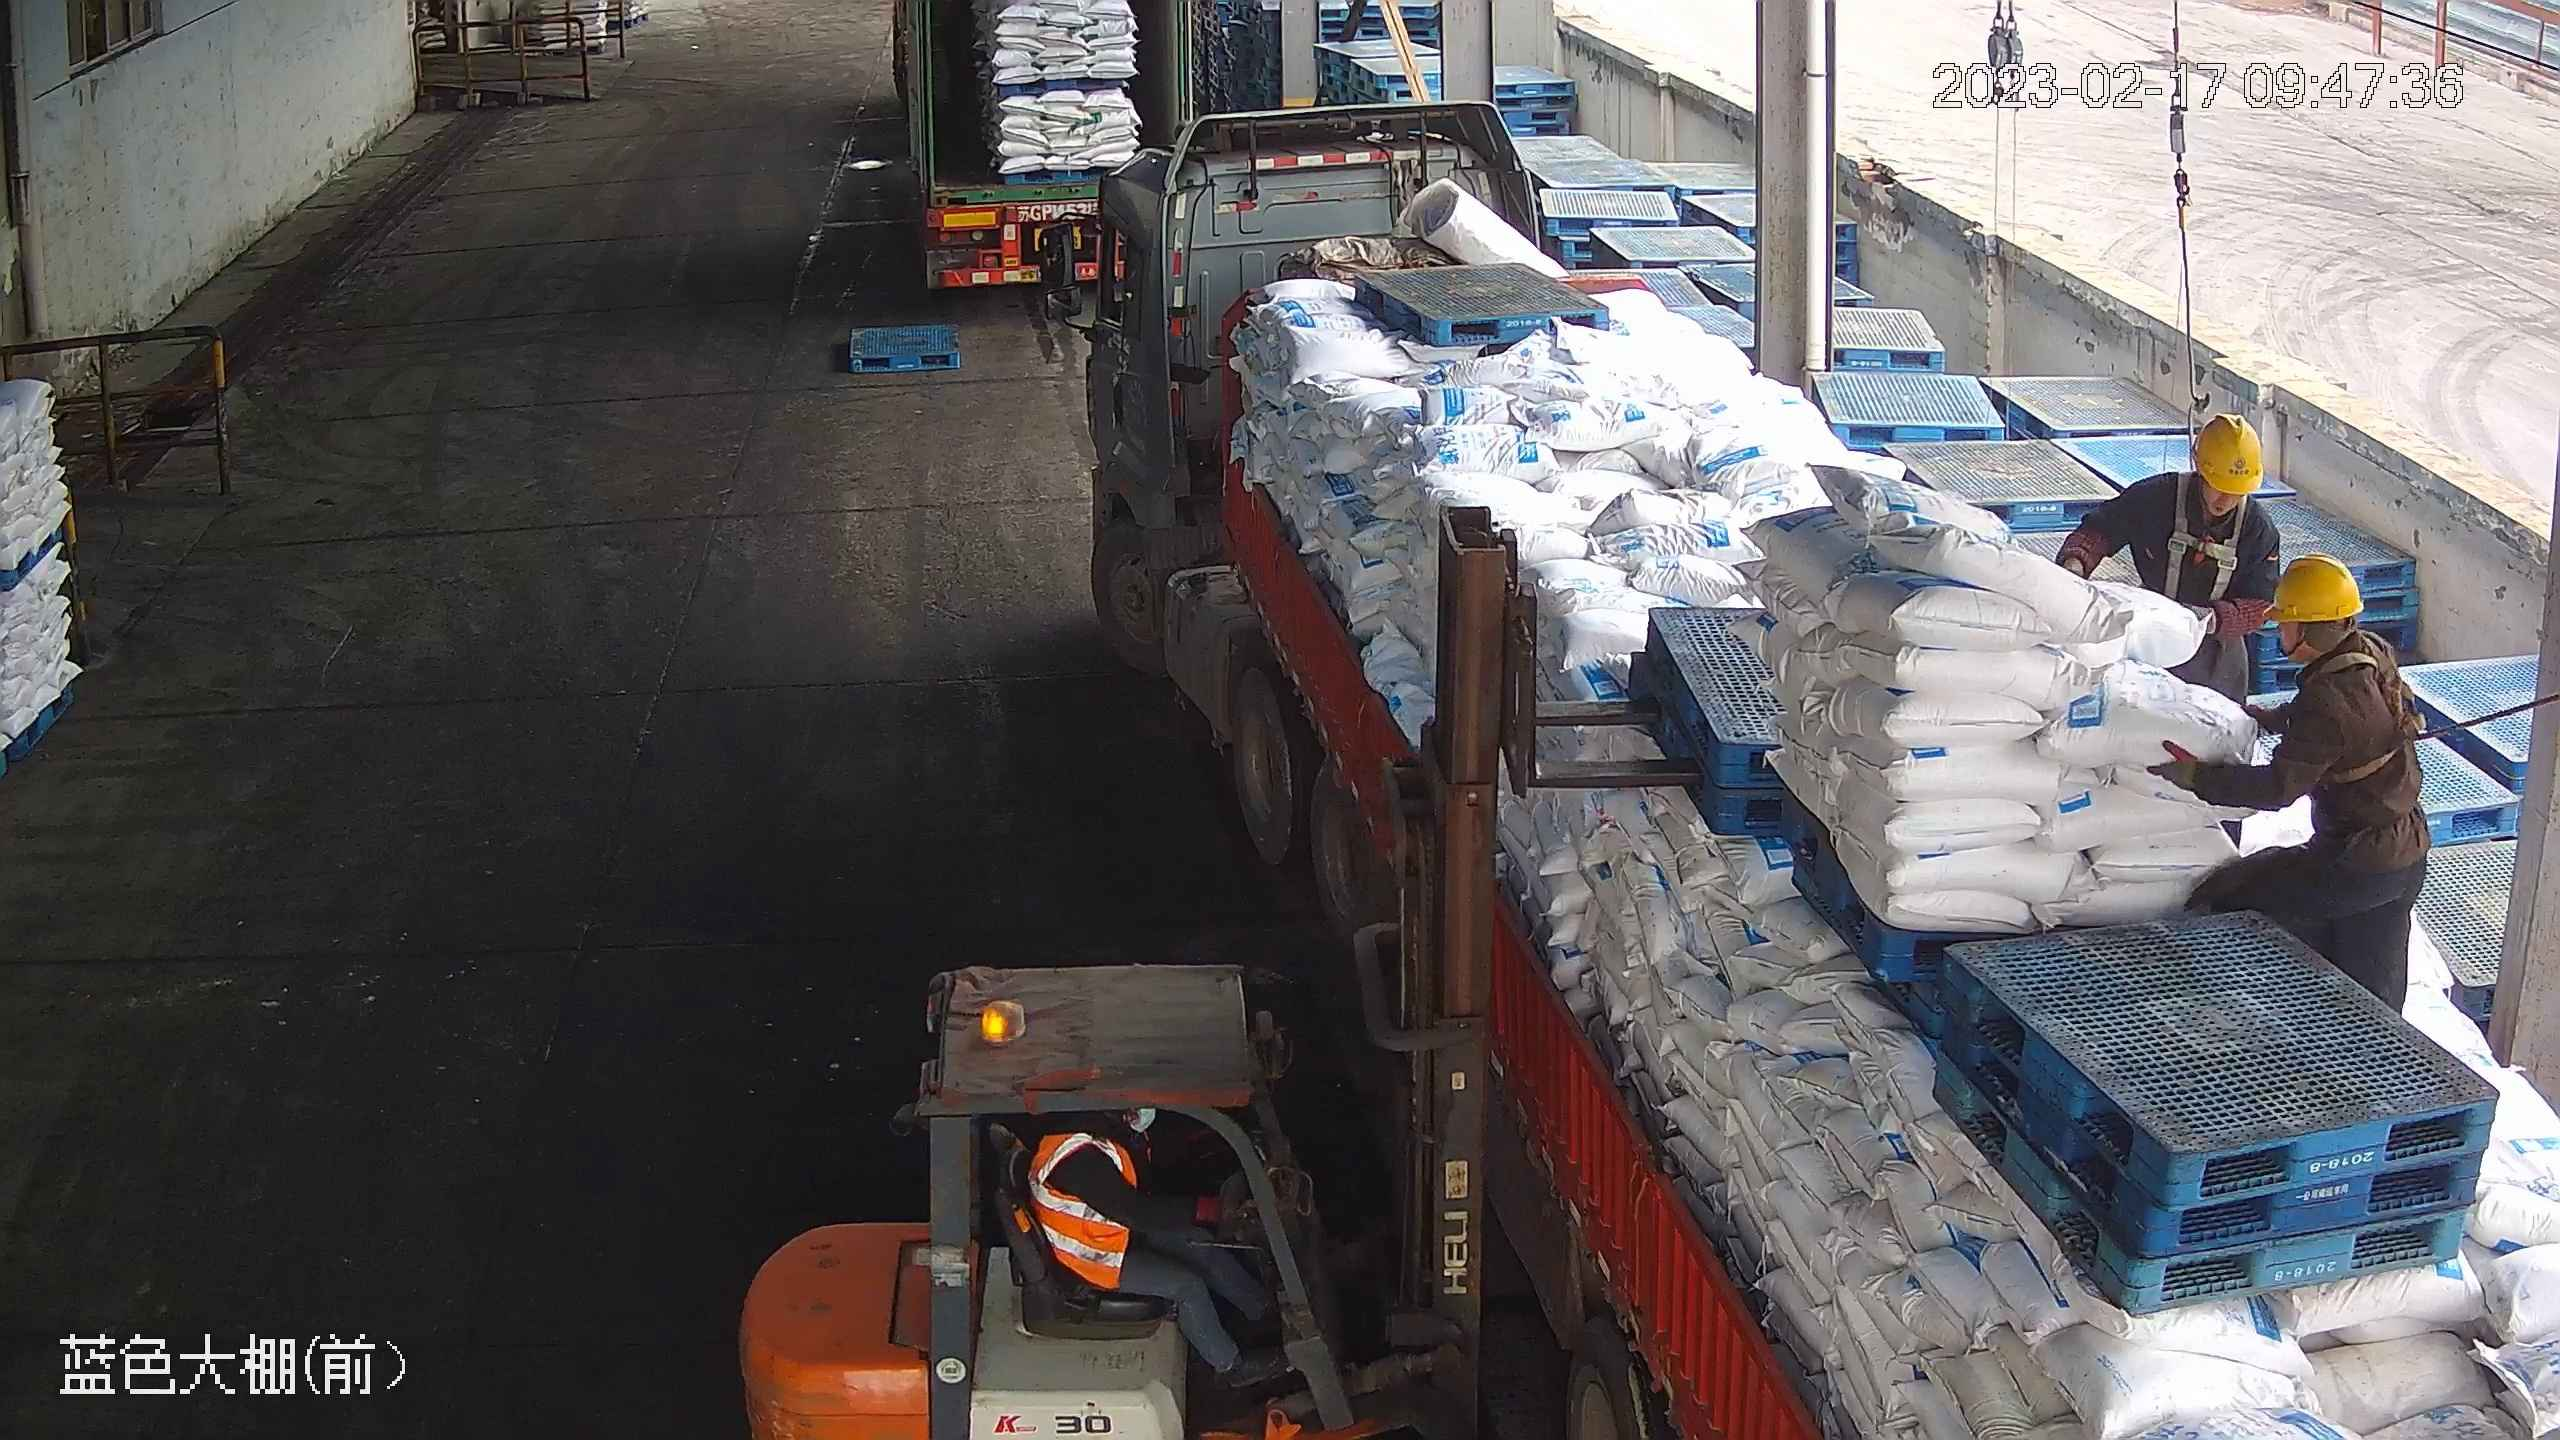belt: (2307, 635, 2431, 783), (2160, 481, 2249, 592)
head: (2254, 547, 2414, 727), (2120, 404, 2285, 557)
helmet: (2258, 548, 2365, 626), (2189, 406, 2275, 499)
people: (2149, 551, 2432, 1022), (1024, 1107, 1293, 1393)
truck: (1075, 97, 2560, 1434), (881, 1, 1223, 295)
